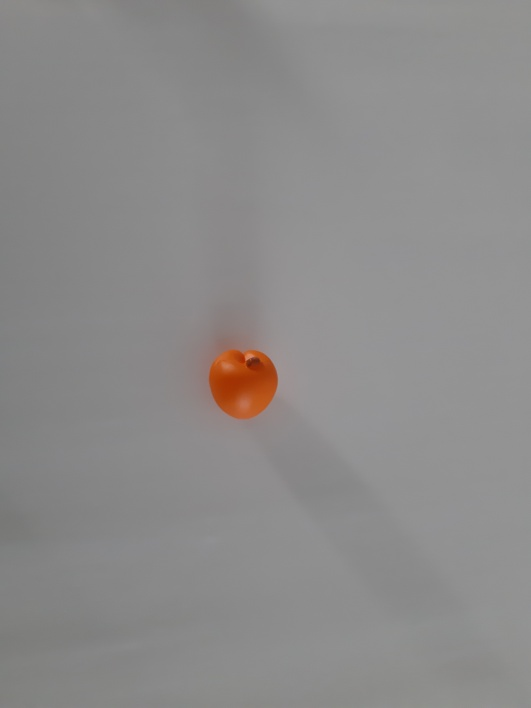apricot: (196, 331, 293, 446)
